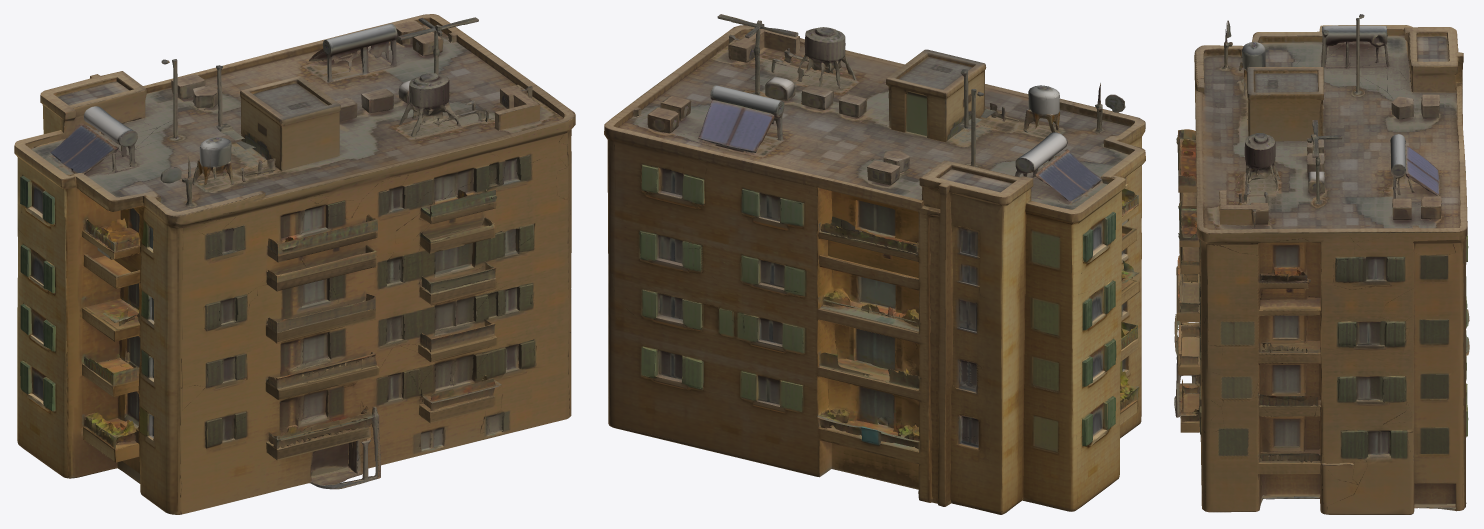
Rendered from r3_jer_flat_5.glb.
The picture shows the model from 3 angles, left to right: view 1: azimuth 30°, elevation 25°; view 2: azimuth 150°, elevation 25°; view 3: azimuth 270°, elevation 25°; orthographic projection. The views are drawn at different scales.
Parts seen in each view (by area): view 1: geometry_0; view 2: geometry_0; view 3: geometry_0.
Boxes of the visible parts, x1,y1,x2,y2 form: geometry_0: (14,14,575,514); geometry_0: (604,14,1145,514); geometry_0: (1174,14,1469,514).
Bounding box in the file's own units: 22 × 17 × 13.
1 material, 1 textured.
